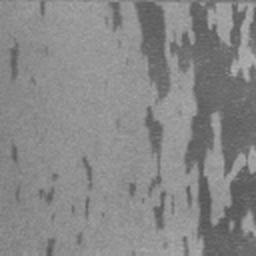Red iron sheet: (109, 0, 256, 256), (70, 156, 93, 216), (37, 173, 59, 204), (8, 38, 20, 82), (46, 238, 56, 256), (14, 187, 22, 204), (12, 142, 18, 161), (40, 0, 46, 13), (77, 232, 82, 244)
